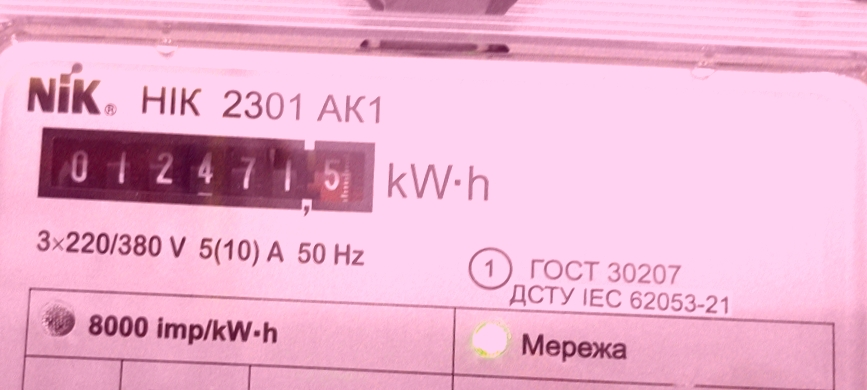0: (65, 146, 90, 183)
1: (114, 149, 128, 185), (279, 156, 292, 192)
2: (152, 148, 175, 186)
4: (194, 148, 215, 186)
5: (319, 153, 343, 192)
7: (233, 152, 256, 192)
screen: (25, 108, 388, 230)
